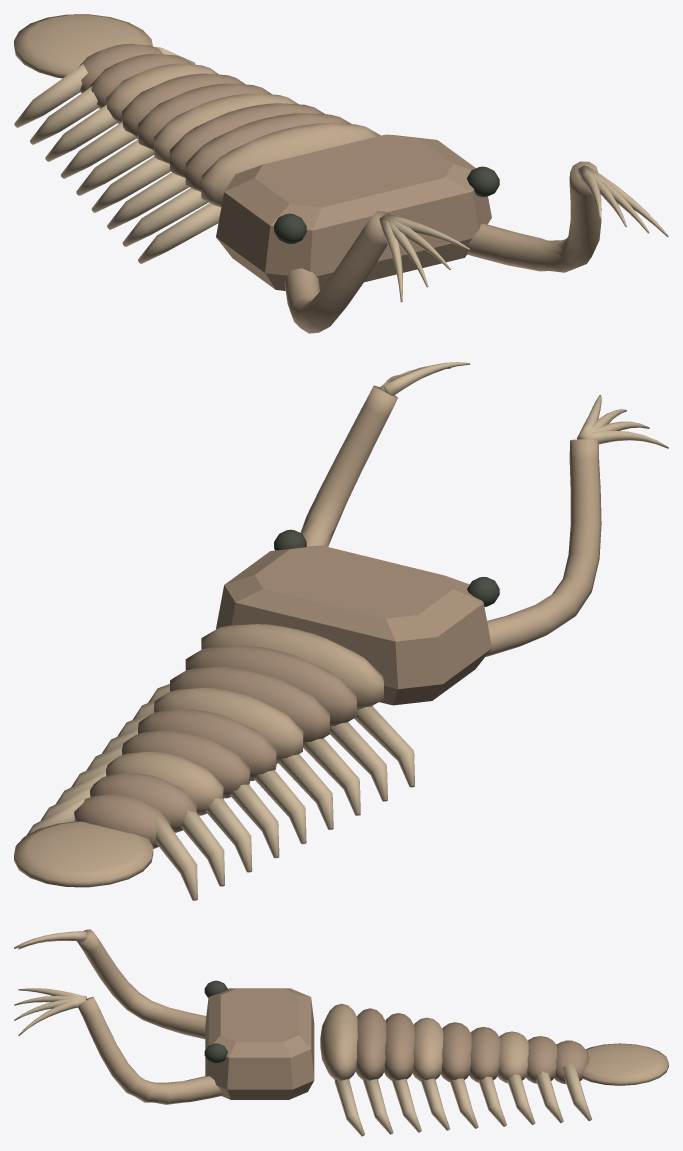
File: yohoia.glb
The picture shows the model from 3 angles, top to bottom: view 1: azimuth 30°, elevation 25°; view 2: azimuth 150°, elevation 25°; view 3: azimuth 270°, elevation 25°; orthographic projection. The views are drawn at different scales.
Parts seen in each view (by area): view 1: broad-subrectangular-head-shield, gently-tapered-segmented-trunk, paired-two-segment-elbows-and-four-terminal-fingers, simplified-ventral-support-and-swimming-limbs, broad-terminal-paddle-telson, small-lateral-eyes; view 2: gently-tapered-segmented-trunk, broad-subrectangular-head-shield, simplified-ventral-support-and-swimming-limbs, paired-two-segment-elbows-and-four-terminal-fingers, broad-terminal-paddle-telson, small-lateral-eyes; view 3: gently-tapered-segmented-trunk, broad-subrectangular-head-shield, paired-two-segment-elbows-and-four-terminal-fingers, simplified-ventral-support-and-swimming-limbs, broad-terminal-paddle-telson, small-lateral-eyes.
Boxes of the visible parts, x1,y1,x2,y2 form: broad-subrectangular-head-shield: [216, 134, 491, 290]; gently-tapered-segmented-trunk: [79, 43, 380, 207]; paired-two-segment-elbows-and-four-terminal-fingers: [284, 161, 668, 333]; simplified-ventral-support-and-swimming-limbs: [14, 47, 221, 263]; broad-terminal-paddle-telson: [14, 14, 152, 78]; small-lateral-eyes: [274, 166, 499, 244]; gently-tapered-segmented-trunk: [74, 624, 383, 848]; broad-subrectangular-head-shield: [216, 545, 491, 705]; simplified-ventral-support-and-swimming-limbs: [26, 684, 414, 900]; paired-two-segment-elbows-and-four-terminal-fingers: [300, 362, 668, 656]; broad-terminal-paddle-telson: [14, 821, 153, 887]; small-lateral-eyes: [274, 529, 499, 606]; gently-tapered-segmented-trunk: [320, 1003, 589, 1083]; broad-subrectangular-head-shield: [205, 988, 314, 1099]; paired-two-segment-elbows-and-four-terminal-fingers: [14, 929, 222, 1104]; simplified-ventral-support-and-swimming-limbs: [334, 1040, 591, 1136]; broad-terminal-paddle-telson: [581, 1043, 668, 1085]; small-lateral-eyes: [204, 980, 227, 1063].
Bounding box in the file's own units: 0.0191 × 0.0126 × 0.0572.
